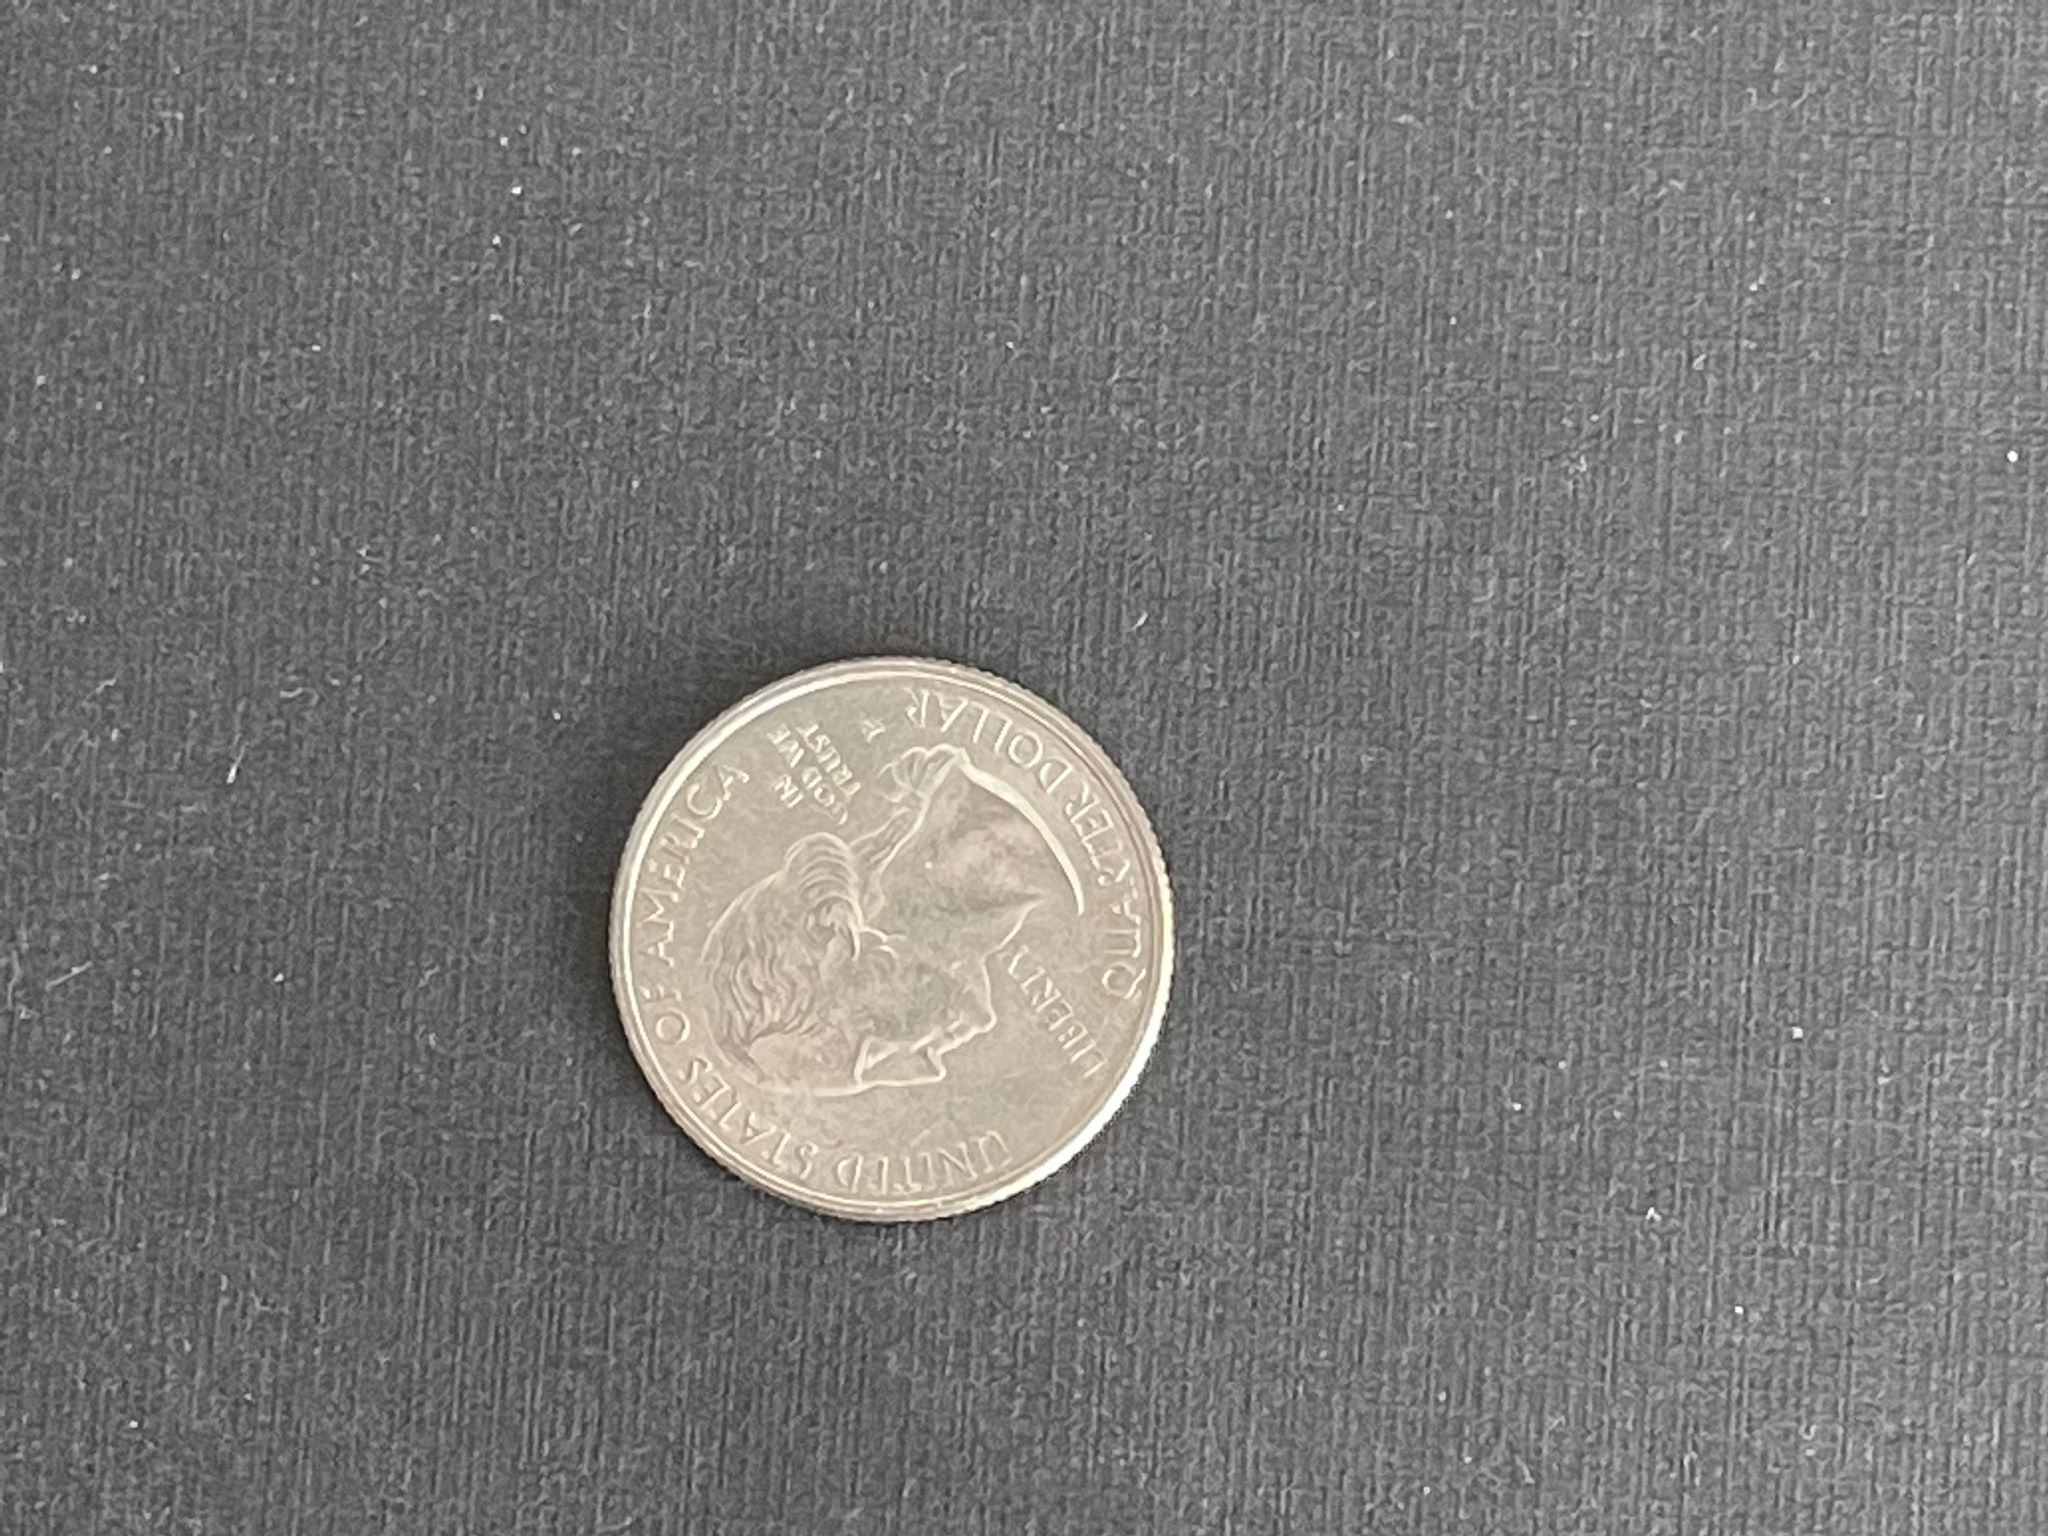quarter: (597, 649, 1185, 1229)
